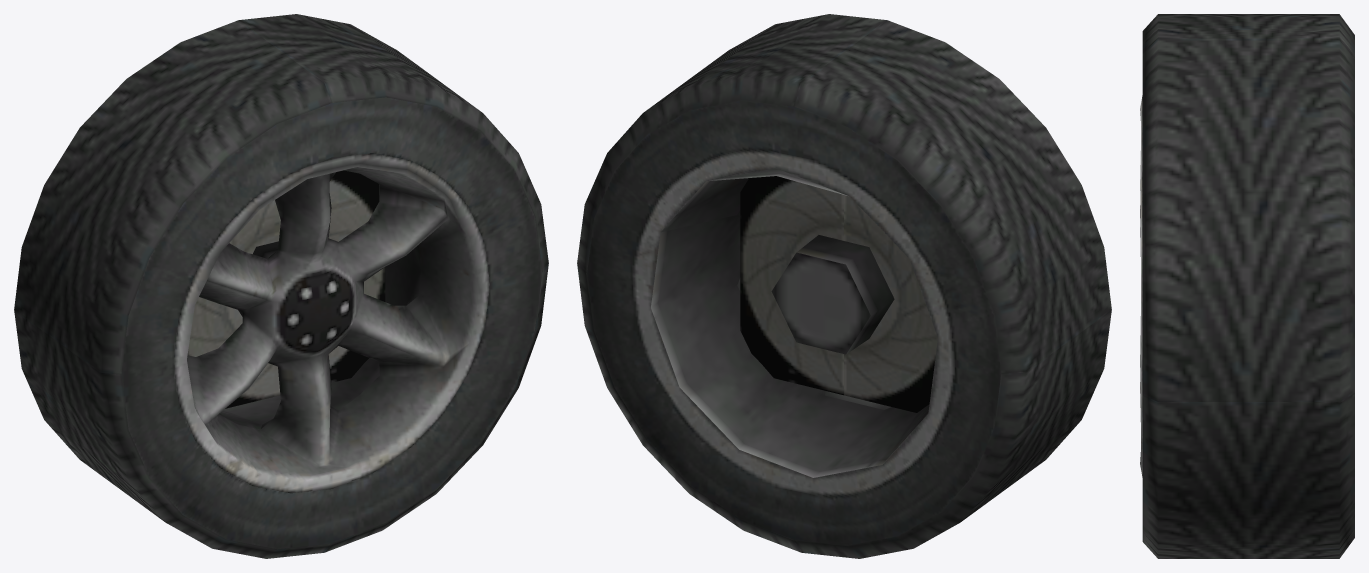
Rendered from V_A_ClassicMuscle_Wheels_6_SkeletalMesh3_SkeletalMesh_17.psk.glb.
The picture shows the model from 3 angles, left to right: view 1: azimuth 30°, elevation 25°; view 2: azimuth 150°, elevation 25°; view 3: azimuth 270°, elevation 25°; orthographic projection. The views are drawn at different scales.
Bounding box in the file's own units: 67.92 × 67.92 × 26.68.
1 material, 1 textured.
